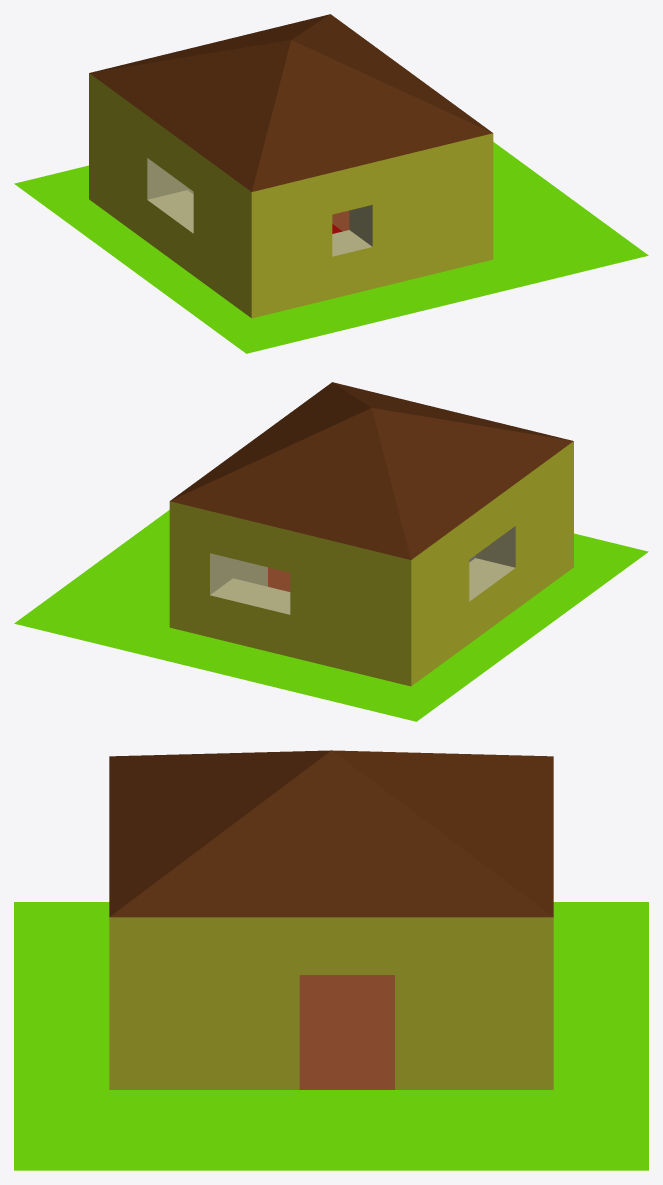
Rendered from House Tile 1.fbx.
3 views of the same model, one above another, from view 1: azimuth 30°, elevation 25°; view 2: azimuth 150°, elevation 25°; view 3: azimuth 270°, elevation 25° (orthographic). The views are drawn at different scales.
Visible parts, largest first — view 1: House Frame, House Roof, House Tile 1; view 2: House Frame, House Roof, House Tile 1; view 3: House Tile 1, House Roof, House Frame.
Part boxes in pixels (x1=…): House Frame: x1=89, y1=73, x2=493, y2=318; House Roof: x1=89, y1=14, x2=492, y2=191; House Tile 1: x1=14, y1=142, x2=648, y2=353; House Frame: x1=169, y1=441, x2=573, y2=686; House Roof: x1=170, y1=382, x2=573, y2=559; House Tile 1: x1=14, y1=510, x2=648, y2=721; House Tile 1: x1=14, y1=902, x2=648, y2=1170; House Roof: x1=109, y1=750, x2=553, y2=917; House Frame: x1=109, y1=917, x2=553, y2=1089.
Size of the model in its own units: 1000 by 451 by 1000.
